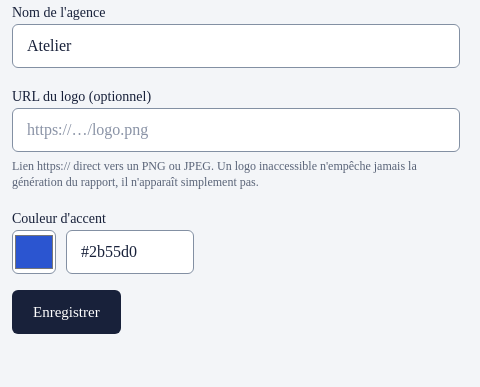
it: BrandSettingsForm › wires aria-invalid and aria-describedby on the fields when the server rejects the form
This screenshot has width=480, height=387.
Click the button "Enregistrer" at point(66, 312), box [12,290,121,334]
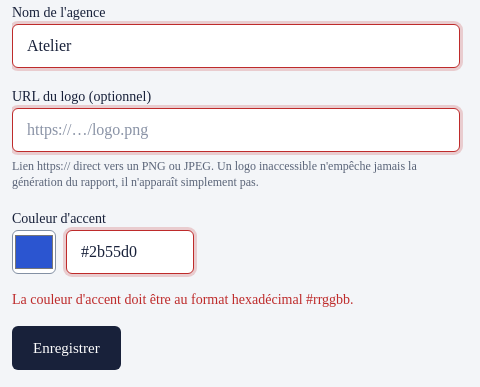
Now the message reads "La couleur d'accent doit être au format hexadécimal #rrggbb.", box [12,292,354,307]
